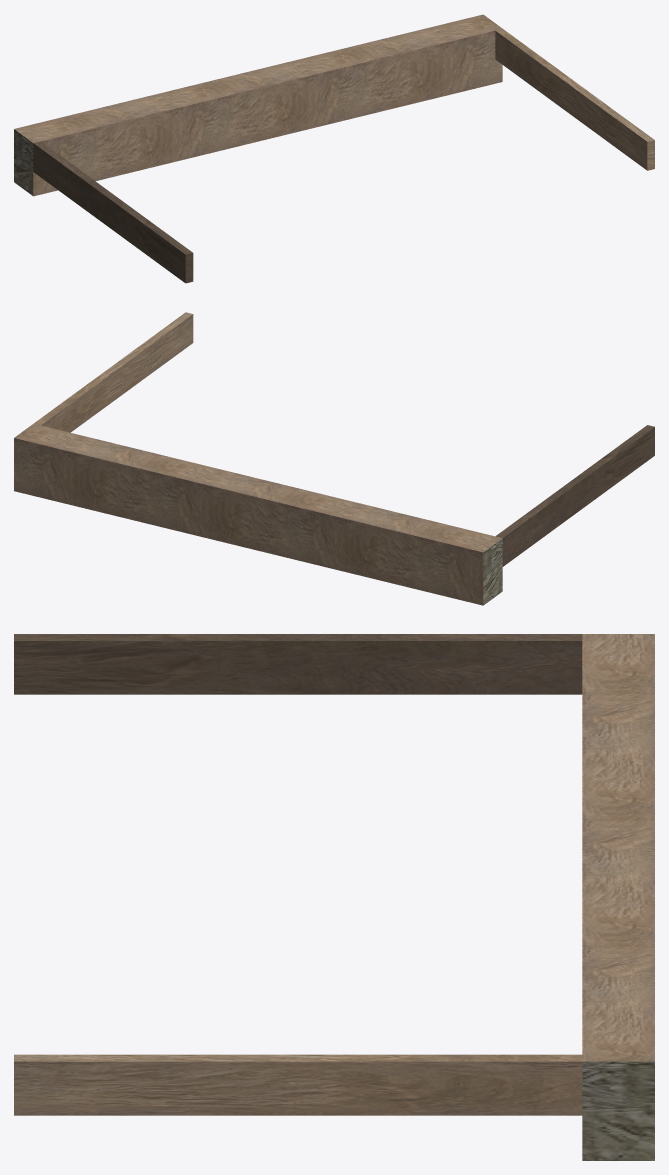
The model's file is RafterCenterEndOverhangA.fbx.
The picture shows the model from 3 angles, top to bottom: view 1: azimuth 30°, elevation 25°; view 2: azimuth 150°, elevation 25°; view 3: azimuth 270°, elevation 25°; orthographic projection. The views are drawn at different scales.
Parts seen in each view (by area): view 1: RafterCenterEndOverhangA; view 2: RafterCenterEndOverhangA; view 3: RafterCenterEndOverhangA.
Boxes of the visible parts, x1,y1,x2,y2 form: RafterCenterEndOverhangA: [14, 14, 654, 283]; RafterCenterEndOverhangA: [14, 312, 654, 605]; RafterCenterEndOverhangA: [14, 634, 654, 1160].
Size of the model in its own units: 374 by 40.53 by 237.
